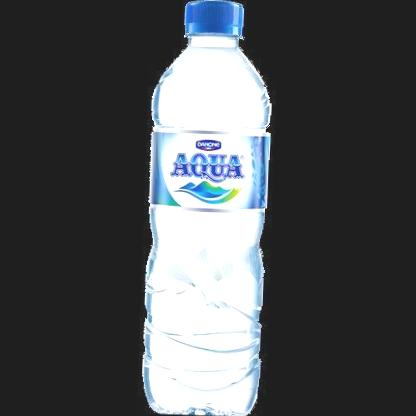plastic_bottles: (137, 0, 276, 416)
